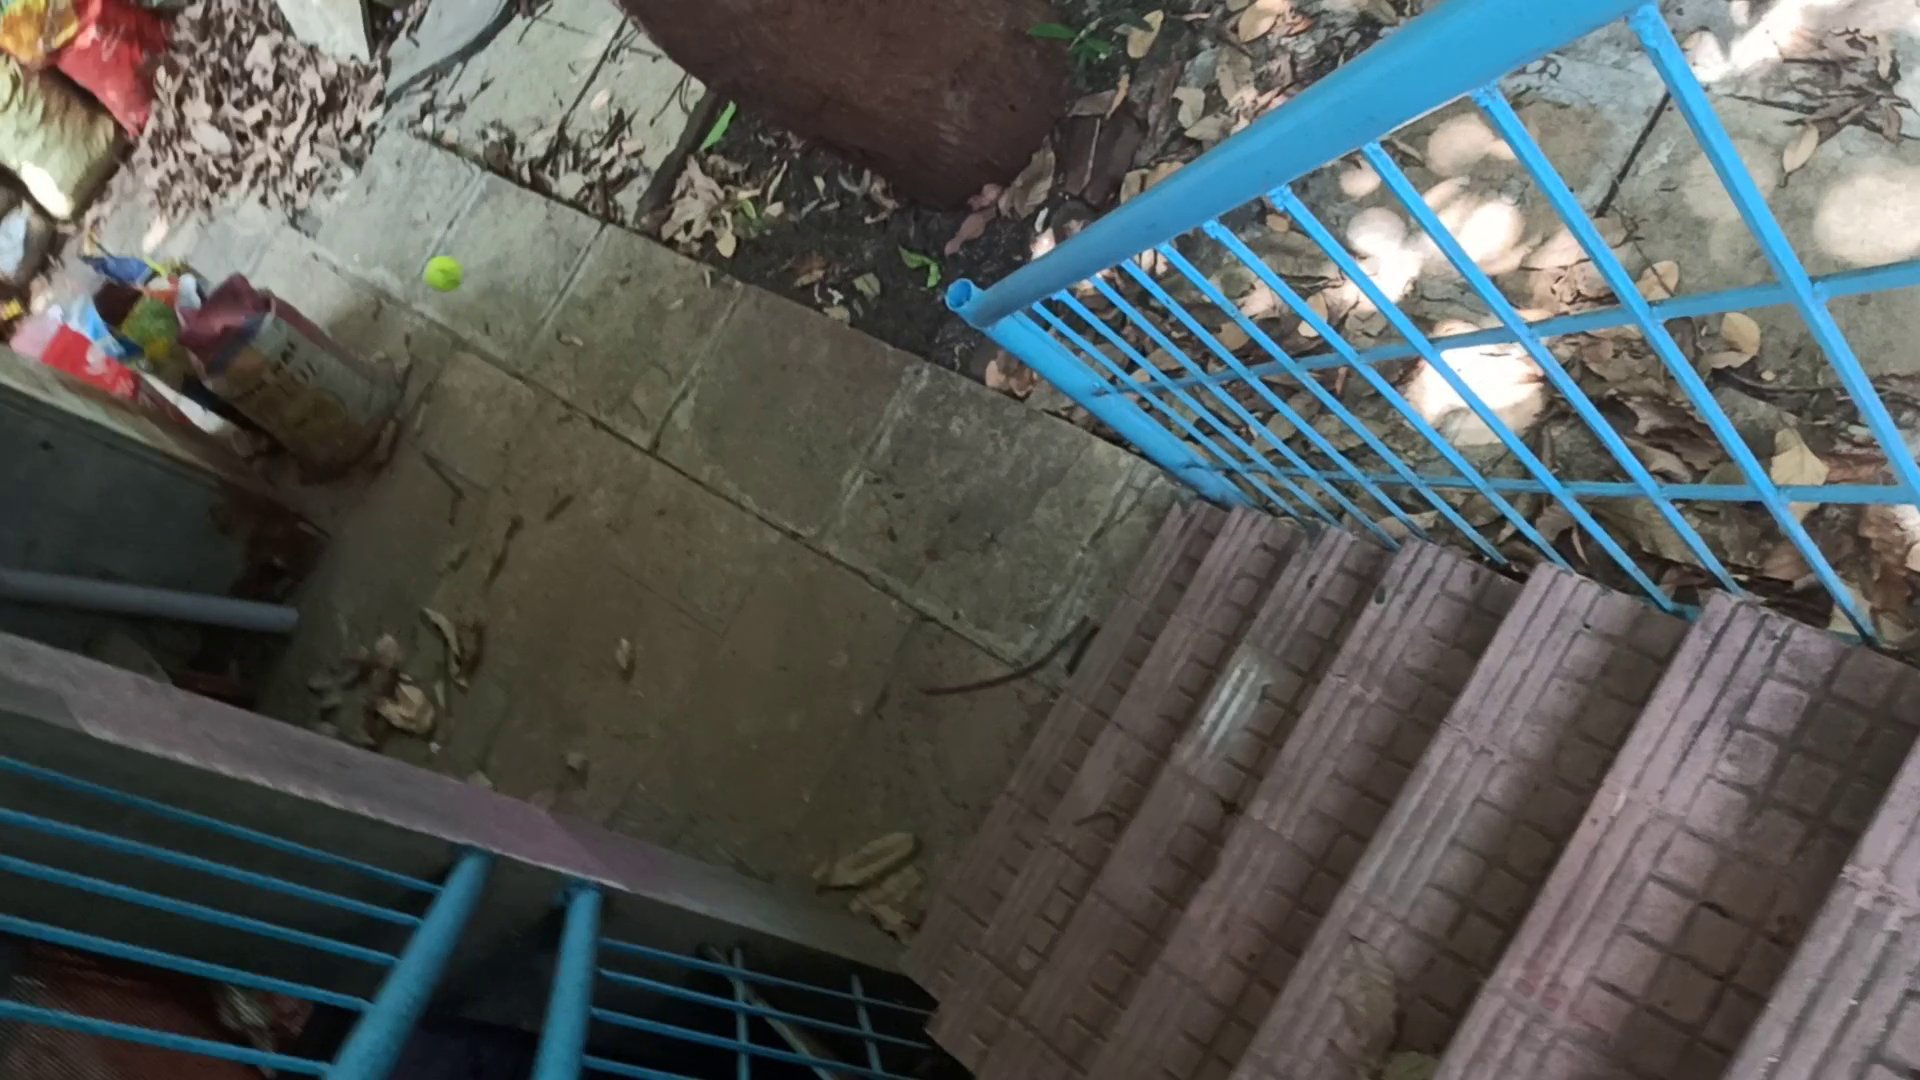Tennis-Ball: (425, 256, 463, 291)
